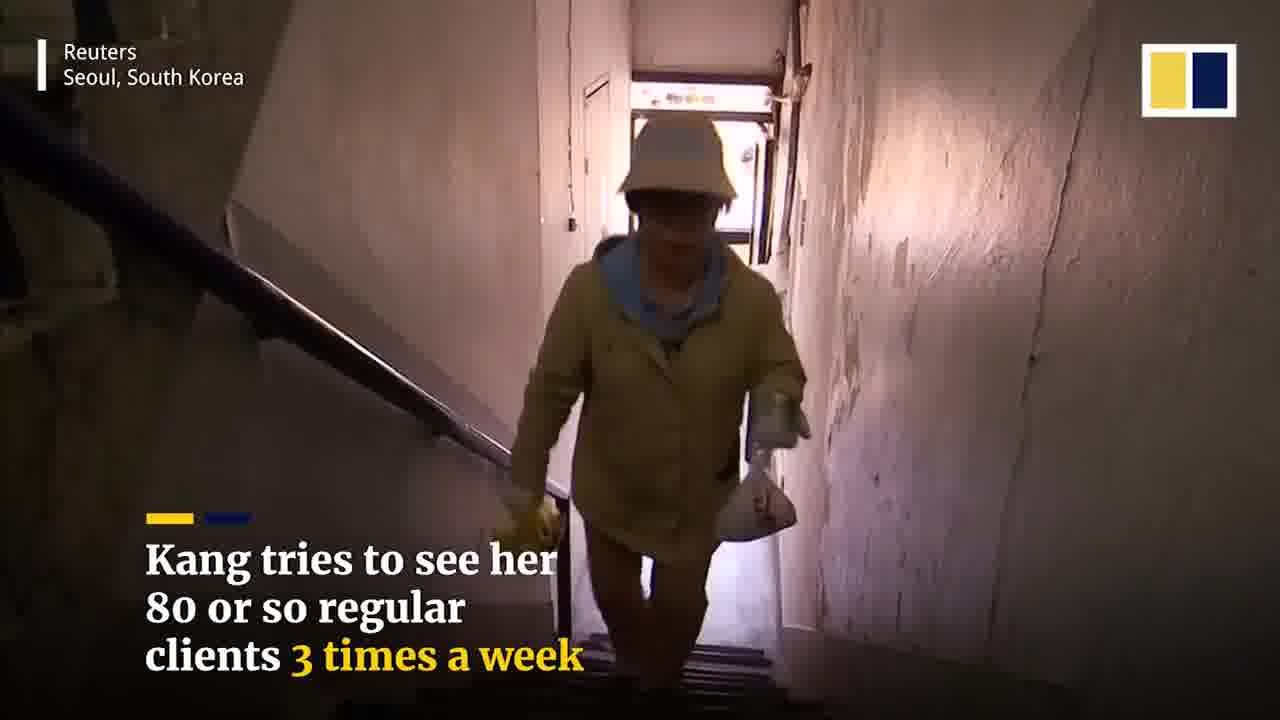Yakurut: (493, 104, 827, 694)
